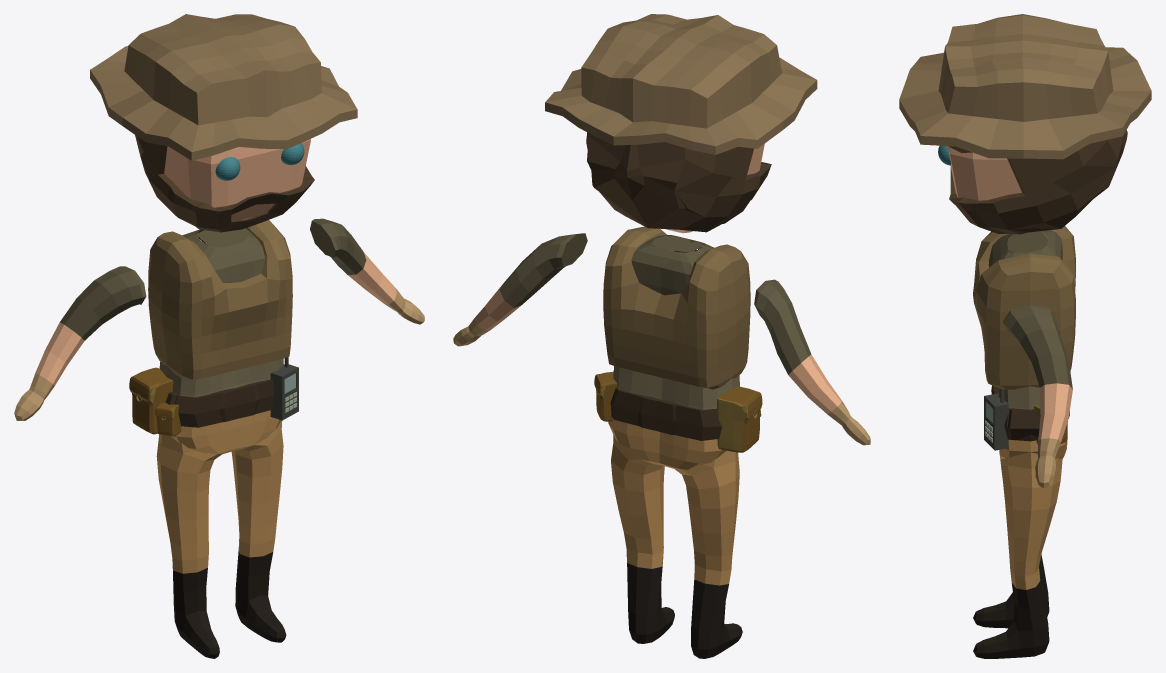
Rendered from cut_up_avatar.fbx.
3 renders of one model, left to right at view 1: azimuth 30°, elevation 25°; view 2: azimuth 150°, elevation 25°; view 3: azimuth 270°, elevation 25°, orthographic.
Parts seen in each view (by area): view 1: Cube.010, Cube.012, Cube.013, Head, RightArm, Cube.014, LeftArm, Torus.001, Cube.008, Cube.007_Cube.008, Cube.011; view 2: Cube.010, Cube.012, Cube.013, Cube.014, RightArm, LeftArm, Torus.001, Cube.008, Cube.009; view 3: Cube.010, Cube.012, Cube.013, Cube.014, LeftArm, Head, Cube.007_Cube.008, Torus.001.
Boxes of the visible parts, <box> form: Cube.010: <box>90,14,357,160</box>; Cube.012: <box>156,228,286,658</box>; Cube.013: <box>148,220,292,380</box>; Head: <box>164,139,310,220</box>; RightArm: <box>14,266,146,420</box>; Cube.014: <box>135,135,314,232</box>; LeftArm: <box>310,218,424,324</box>; Torus.001: <box>165,364,284,427</box>; Cube.008: <box>129,367,173,434</box>; Cube.007_Cube.008: <box>270,357,298,420</box>; Cube.011: <box>155,402,181,436</box>; Cube.010: <box>545,14,817,154</box>; Cube.012: <box>608,235,742,658</box>; Cube.013: <box>603,226,750,389</box>; Cube.014: <box>586,132,771,232</box>; RightArm: <box>754,279,870,445</box>; LeftArm: <box>453,233,587,346</box>; Torus.001: <box>610,388,722,440</box>; Cube.008: <box>717,386,762,452</box>; Cube.009: <box>594,371,616,421</box>; Cube.010: <box>899,14,1151,159</box>; Cube.012: <box>973,230,1067,658</box>; Cube.013: <box>973,226,1075,389</box>; Cube.014: <box>948,130,1127,234</box>; LeftArm: <box>1002,304,1072,488</box>; Head: <box>947,146,1021,200</box>; Cube.007_Cube.008: <box>984,388,1008,450</box>; Torus.001: <box>991,385,1068,441</box>.
Size of the model in its own units: 133 by 187 by 70.91.
